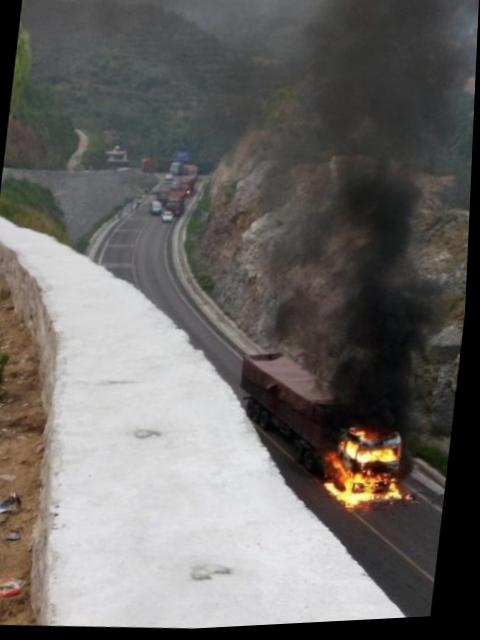fire: (319, 419, 423, 517)
